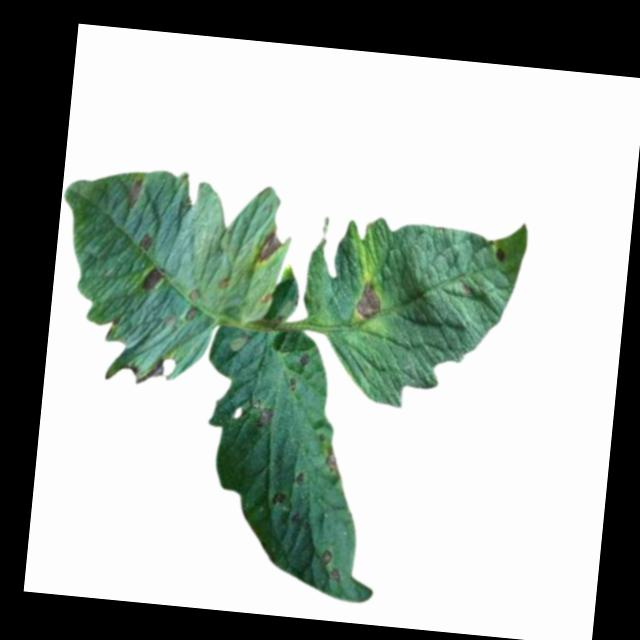Early_blight: (253, 226, 285, 265), (353, 279, 384, 319), (137, 263, 165, 294), (124, 177, 144, 213), (252, 404, 274, 427), (322, 447, 342, 472), (137, 230, 152, 249), (318, 544, 332, 564), (269, 488, 285, 505), (182, 306, 197, 321), (494, 246, 506, 261), (298, 352, 310, 366)
